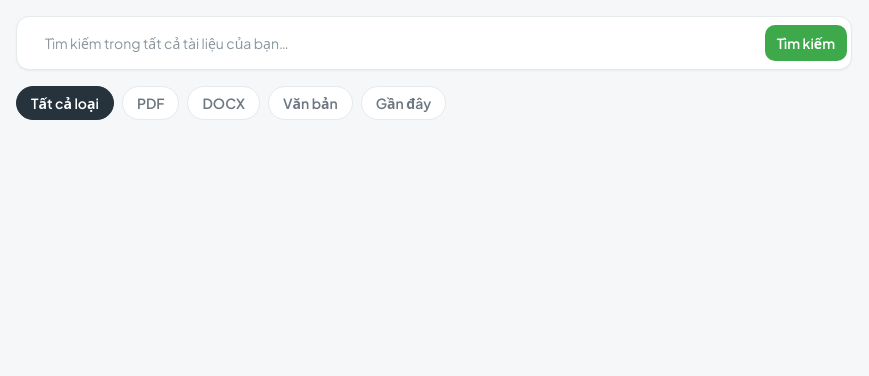
SearchPage › loads more results and appends them
The width and height of the screenshot is (869, 376).
Type "revenue" into the field named "Tìm kiếm tài liệu của bạn" at (393, 43), box [33,21,753,65]
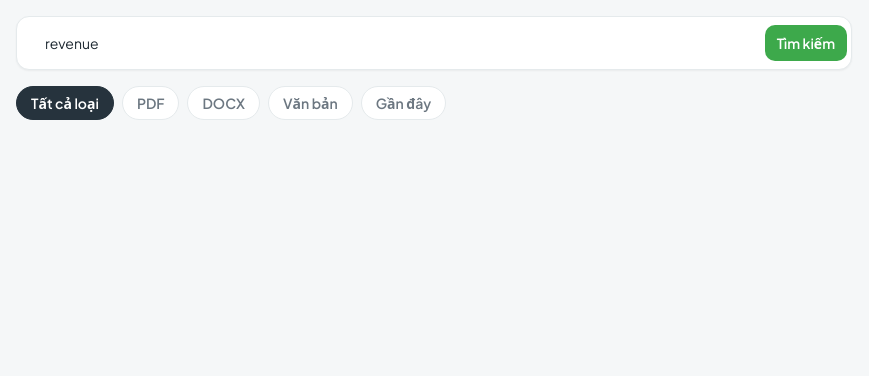
Click the button "Tìm kiếm" at (806, 43), box [765,25,847,61]
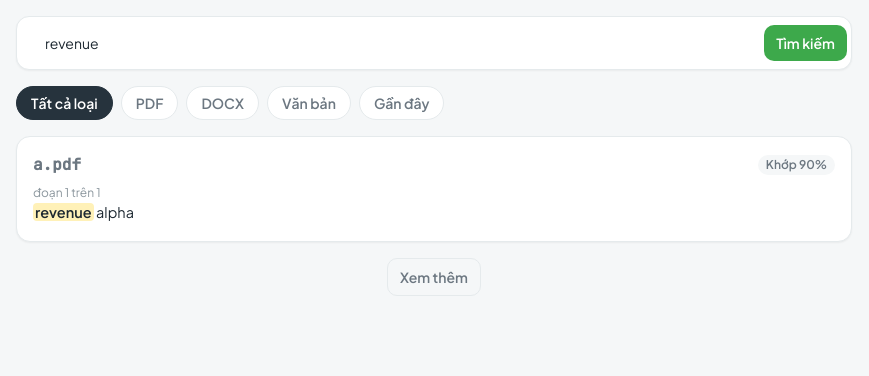
Check: the text "a.pdf" is shown, box [33,153,81,177]
Click the button "Xem thêm" at (434, 277), box [387,258,481,296]
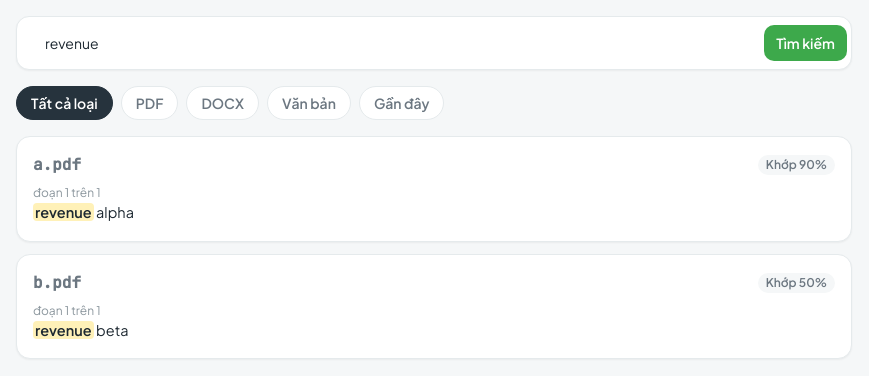
Check: the text "a.pdf" is shown, box [33,153,81,177]
Check: the text "b.pdf" is shown, box [33,271,81,295]
Check: the button "Xem thêm" is gone
